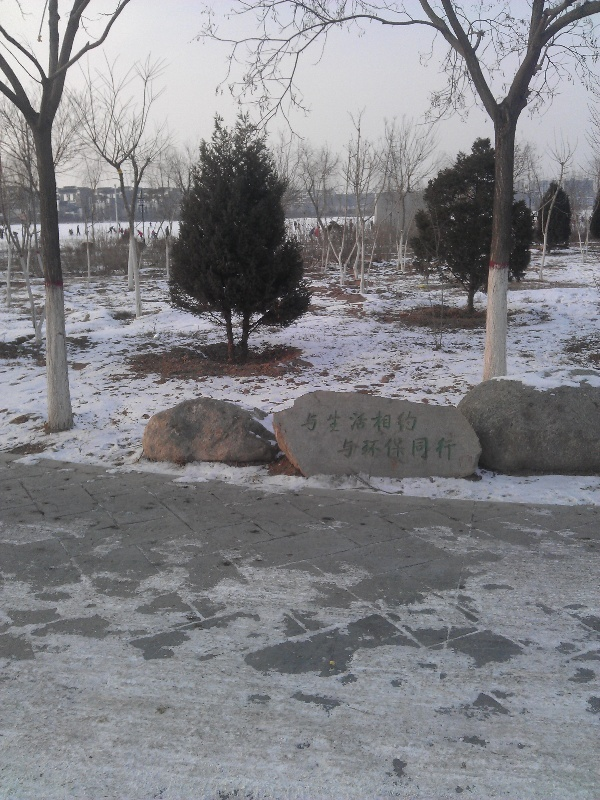text: (353, 438, 368, 462), (369, 438, 384, 462), (385, 438, 400, 462), (401, 438, 416, 462), (417, 438, 432, 462), (433, 438, 448, 462), (338, 438, 352, 462), (305, 411, 320, 433), (321, 411, 336, 433), (337, 411, 352, 433), (353, 411, 368, 433), (369, 411, 384, 433), (385, 411, 400, 433), (401, 411, 416, 433), (449, 438, 457, 462), (302, 411, 304, 433), (417, 411, 418, 433)
